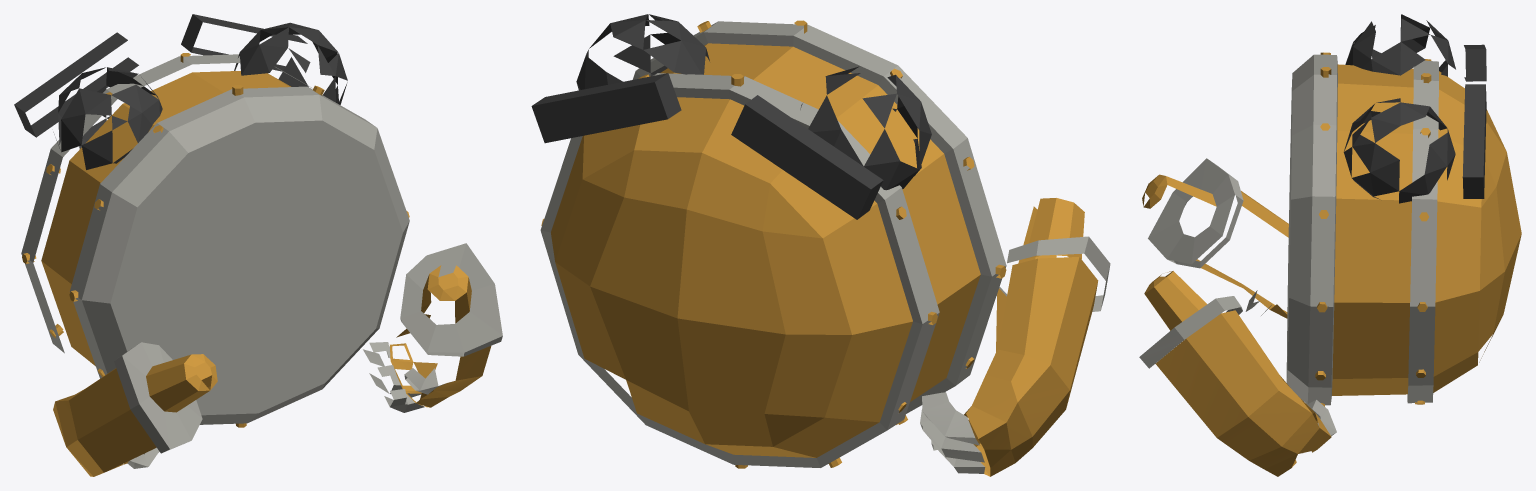
The model's file is polypizza-robot.glb.
3 renders of one model, left to right at view 1: azimuth 30°, elevation 25°; view 2: azimuth 150°, elevation 25°; view 3: azimuth 270°, elevation 25°, orthographic. The views are drawn at different scales.
Visible parts, largest first — view 1: Foot.L; view 2: Foot.L; view 3: Foot.L.
Boxes of the visible parts, x1,y1,x2,y2 form: Foot.L: [14, 14, 502, 476]; Foot.L: [531, 14, 1110, 476]; Foot.L: [1139, 14, 1521, 476].
Size of the model in its own units: 1 by 0.8654 by 0.8802.
